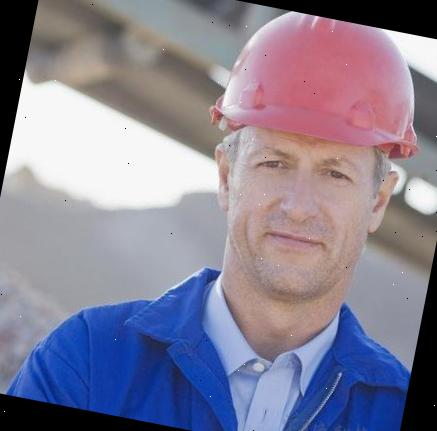helmet: (214, 1, 437, 168)
